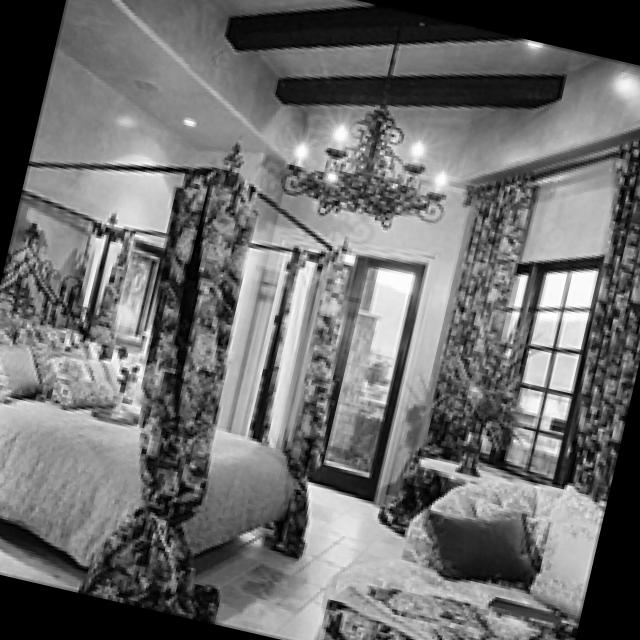2001: (470, 257, 604, 484)
bed -occluded-: (0, 229, 299, 578)
blanket: (328, 582, 575, 640)
book case: (491, 593, 564, 620)
bouquet: (439, 320, 526, 475)
ceiling beam: (217, 0, 601, 122)
ceiling lamps: (289, 15, 451, 222)
curtain crop: (85, 169, 261, 611), (425, 175, 538, 453), (580, 144, 640, 510), (269, 250, 341, 550)
door bars: (305, 253, 431, 497)
painting crop: (109, 236, 171, 351)
pillow occluded: (431, 507, 539, 581), (532, 503, 600, 619), (57, 349, 121, 410), (5, 309, 72, 350), (0, 342, 45, 399)
small table part: (430, 454, 510, 482)
sofa bed: (318, 484, 603, 640)
